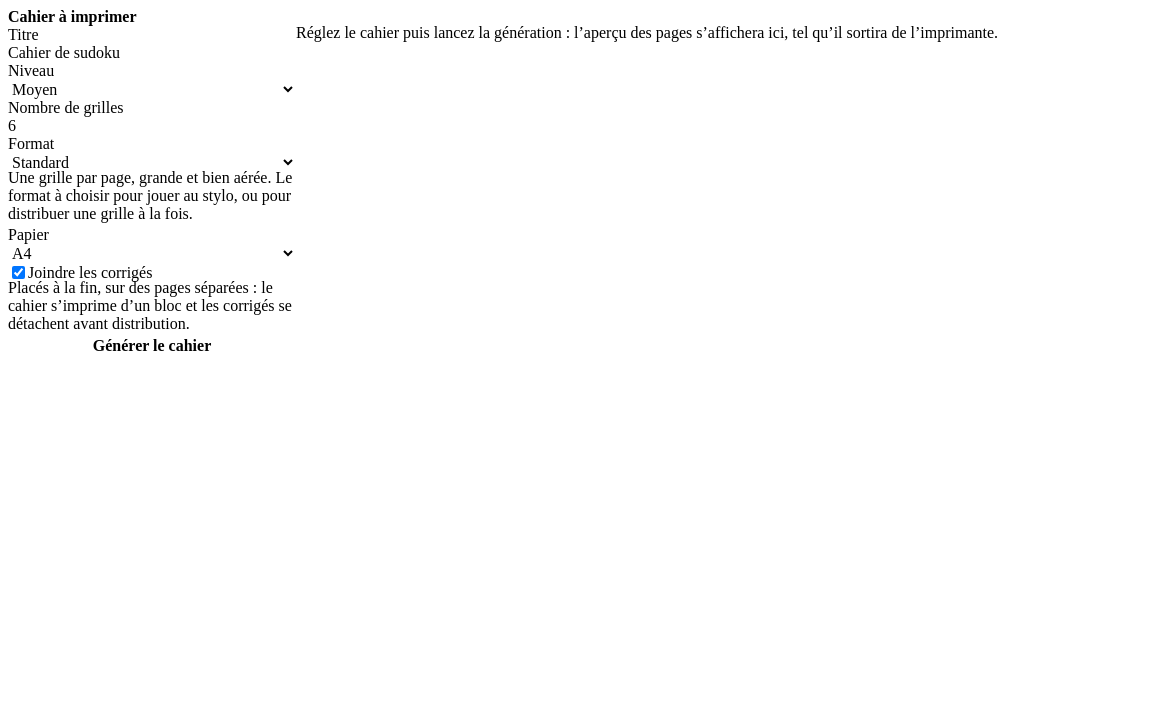
Test: le studio du cahier de sudoku › remplace l’aperçu par ce qui a vraiment été produit quand le moteur casse
Select "Facile" in the dropdown labelled "Niveau" at (152, 90), box top-left (8, 80), bottom-right (296, 99)
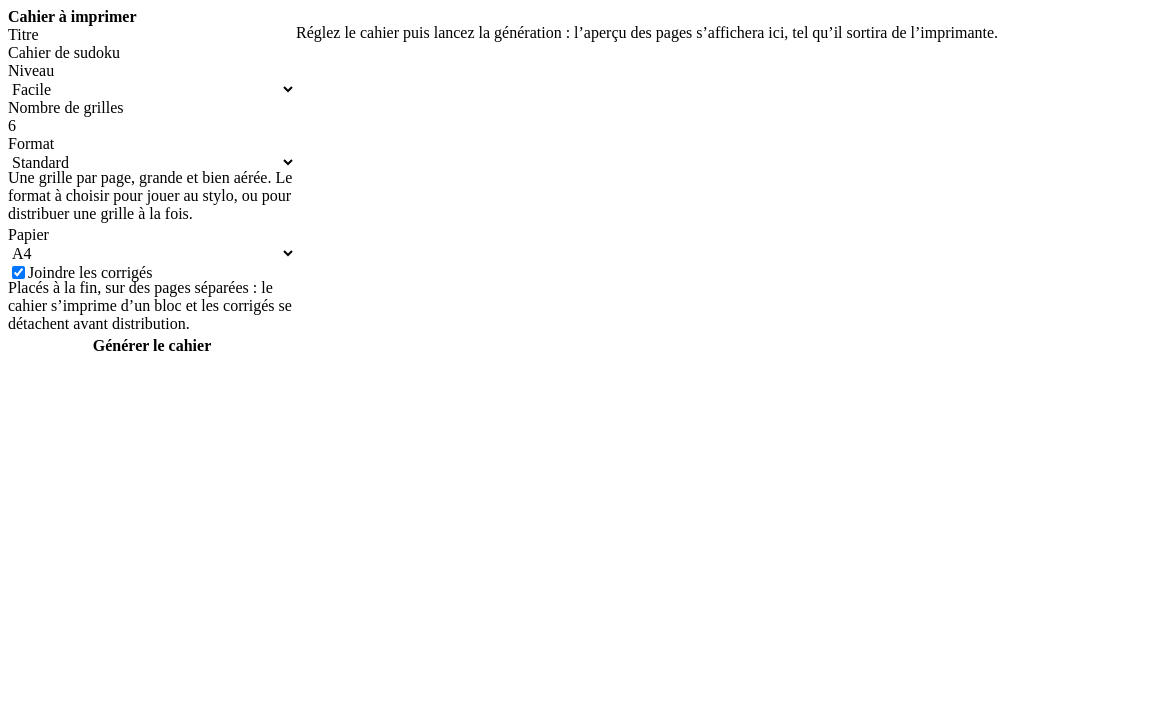
Replace the text in the number field labelled "Nombre de grilles" with "2" at (152, 126), box top-left (8, 117), bottom-right (296, 135)
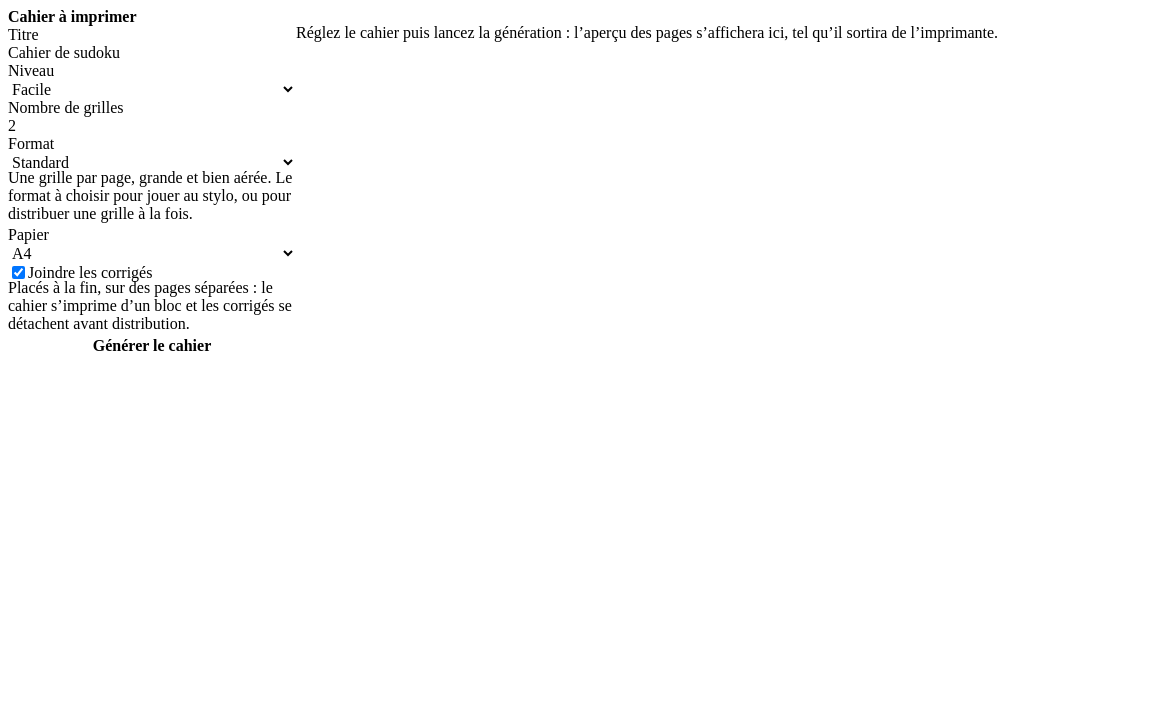
Click the button "Générer le cahier" at (152, 346), box top-left (8, 336), bottom-right (296, 356)
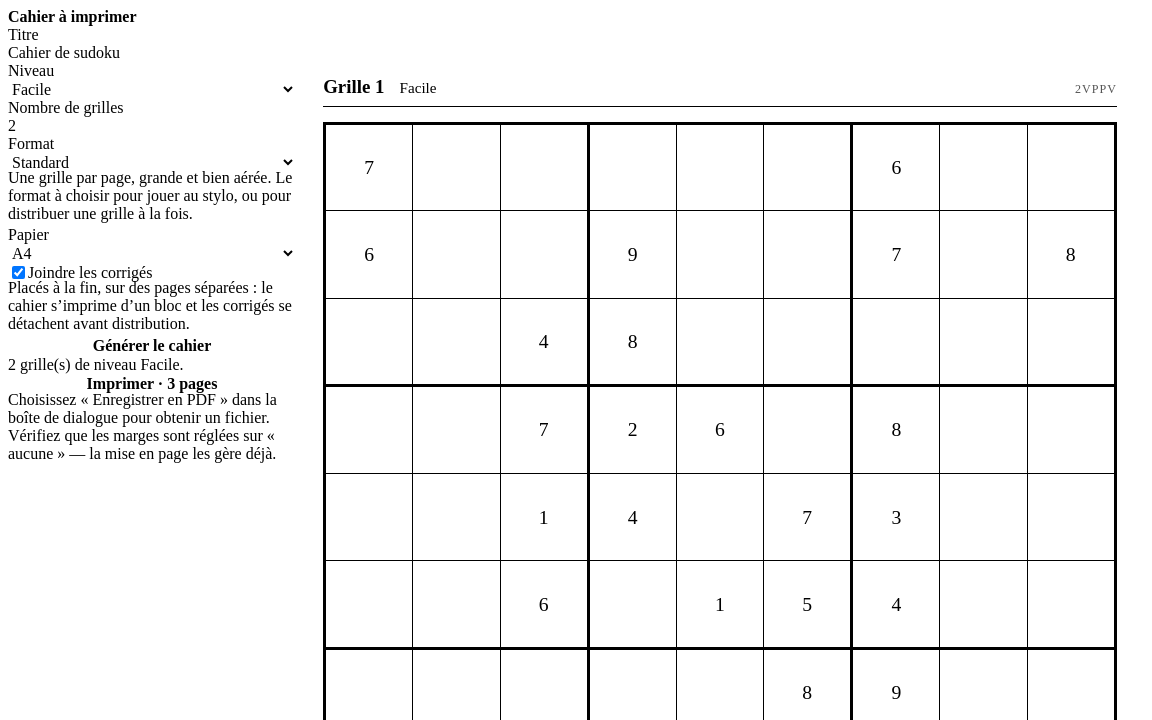
Replace the text in the number field labelled "Nombre de grilles" with "3" at (152, 126), box top-left (8, 117), bottom-right (296, 135)
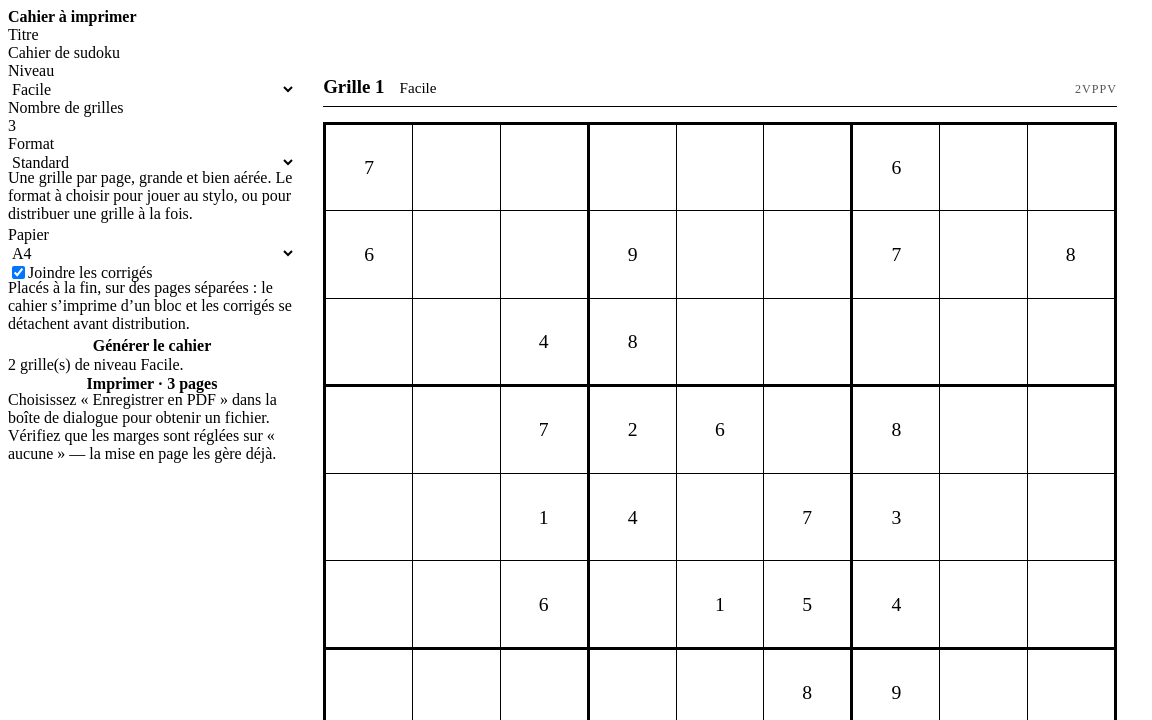
Click the button "Générer le cahier" at (152, 346), box top-left (8, 336), bottom-right (296, 356)
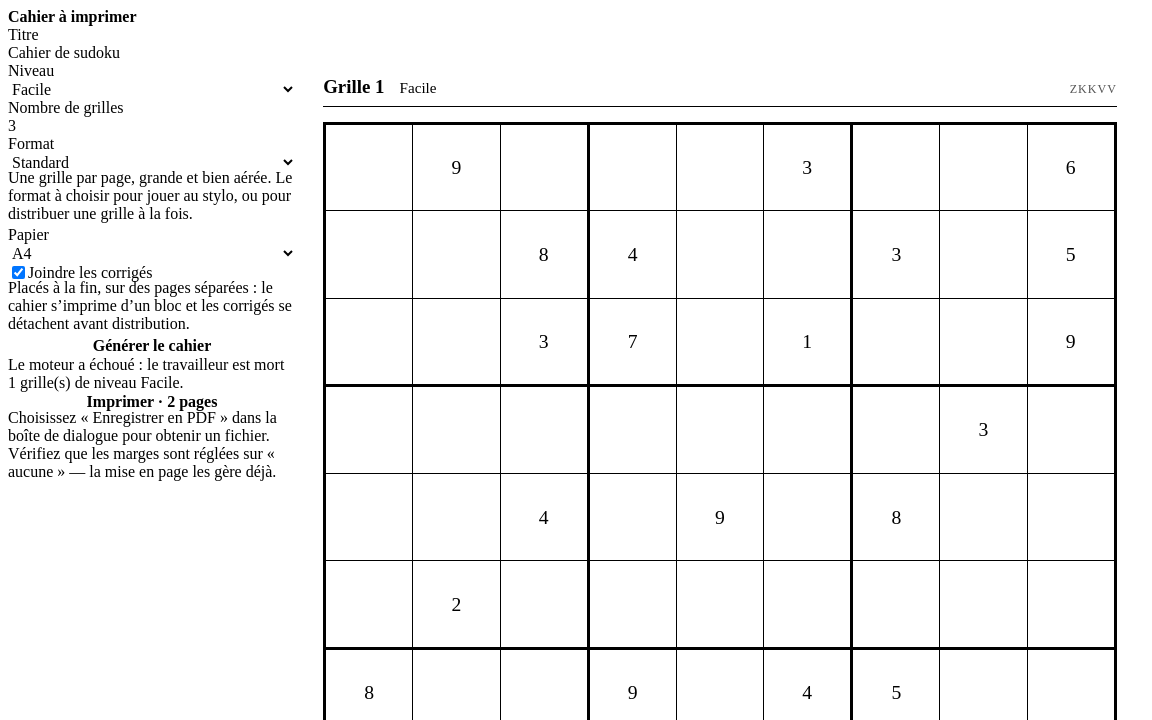
Now the message with class "notice" shows "Le moteur a échoué : le travailleur est mort", box top-left (8, 356), bottom-right (284, 391)
Now the message with class "notice" shows "1 grille(s) de niveau Facile.", box top-left (8, 356), bottom-right (284, 391)
